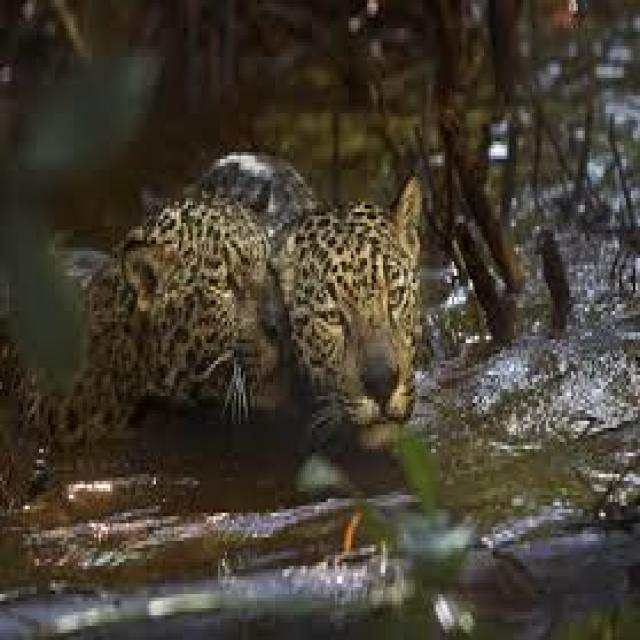Jaguar: (268, 184, 443, 445)
